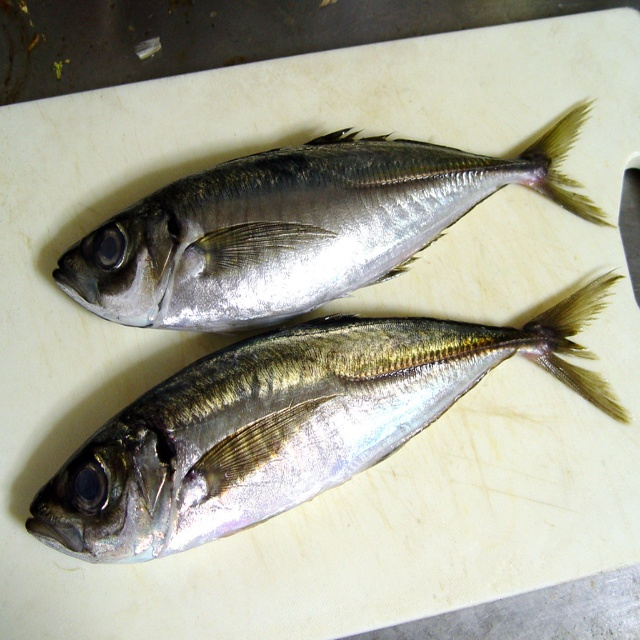Fish: (25, 265, 632, 564), (51, 99, 618, 332)
